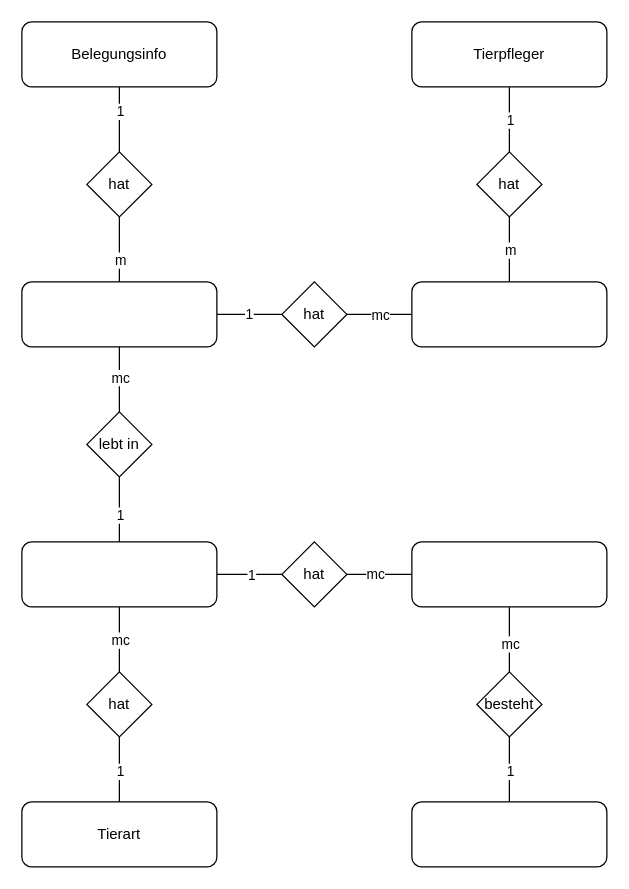
Image size: 629x889. Some labels were removed from this diagram. Here are the shapes that lost their labels. From the top down, the box of each, then its label:
(21, 281, 217, 347): Gehege
(411, 281, 607, 347): Gehegeplan
(21, 541, 217, 607): Tier
(411, 541, 607, 607): Futter
(411, 801, 607, 867): Futtersorte
